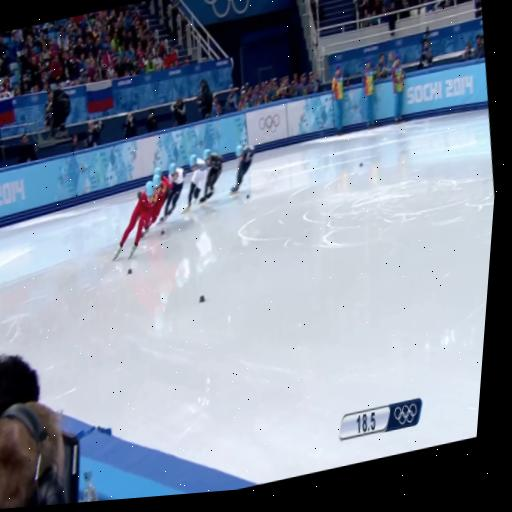Skater: (114, 182, 157, 260), (184, 154, 207, 212), (161, 163, 184, 220), (200, 149, 223, 202), (230, 145, 254, 194), (151, 168, 172, 223)
